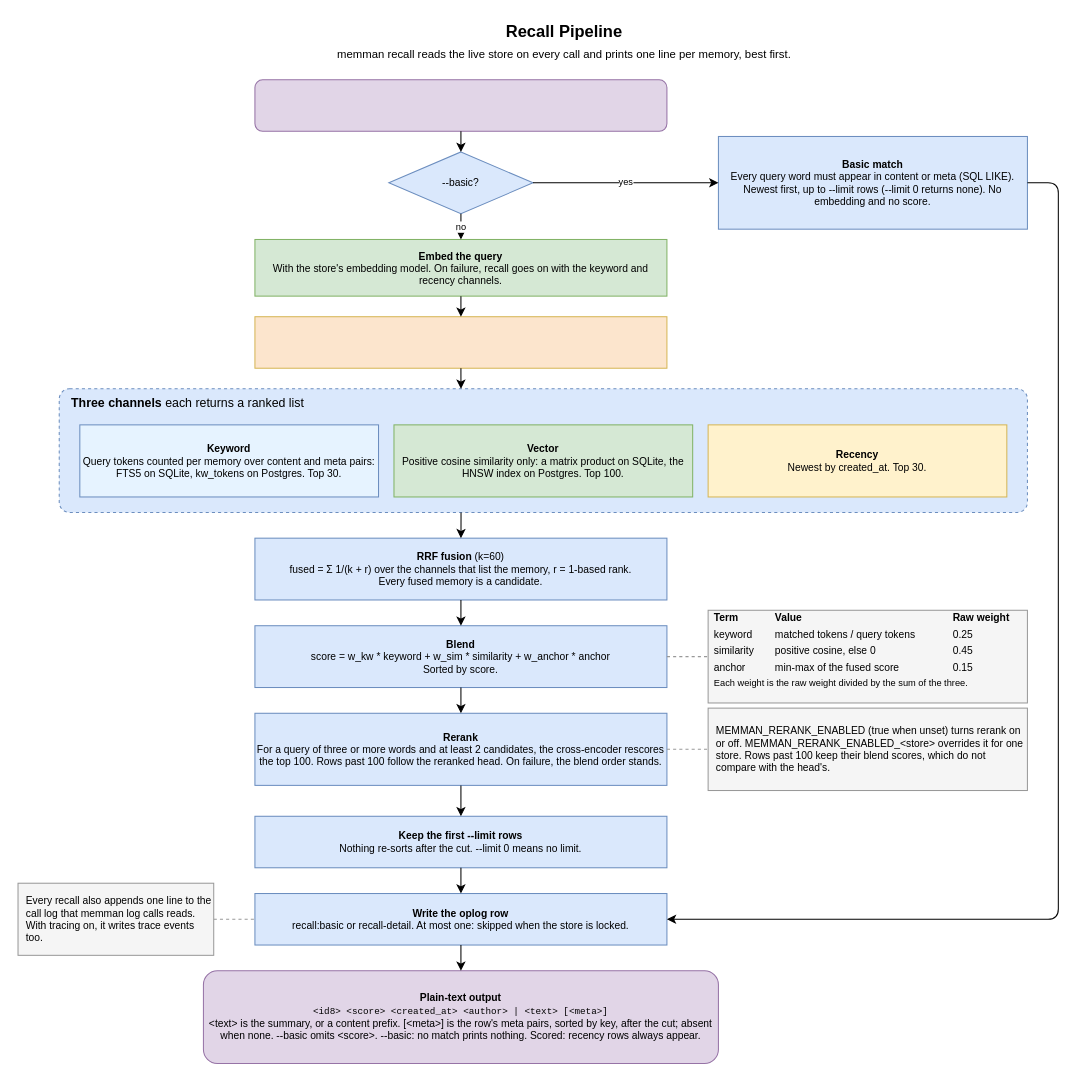
Image size: 1085x1082. Some labels were removed from this diagram. Each missing label, with the centre of its shape:
memman recall <query> [--limit N, default 20] [--basic]: point 460,105
Read every current memory Each memory not forgotten or replaced.: point 460,342
